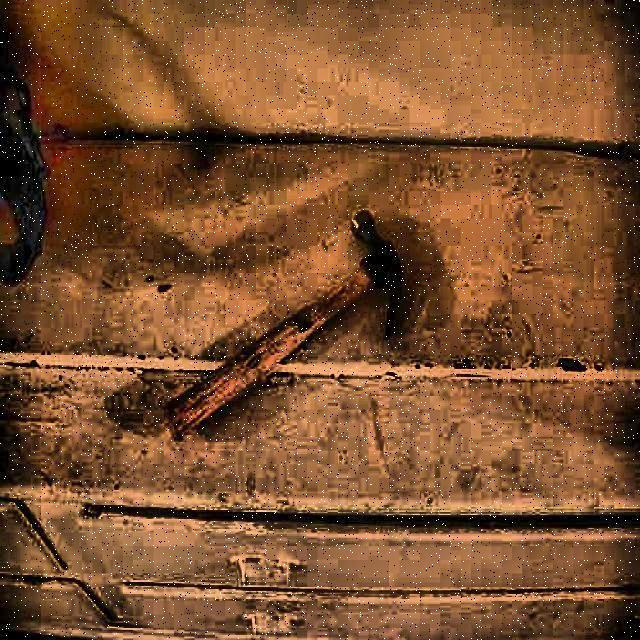hammer: (164, 211, 406, 440)
